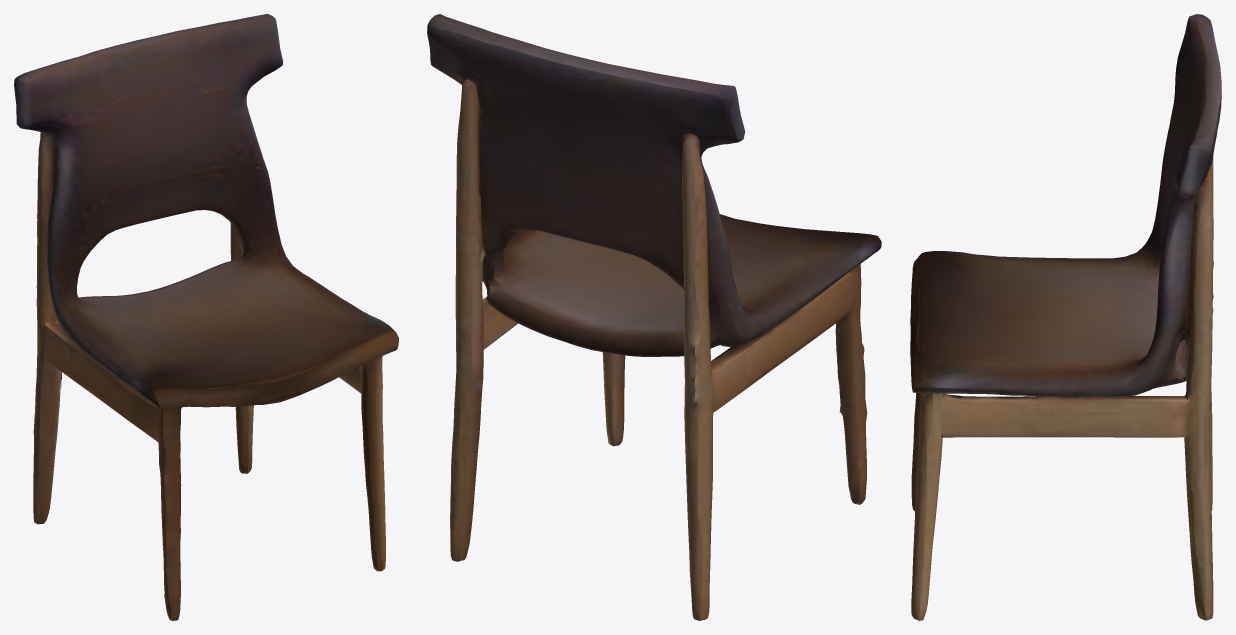
3 views of the same model, side by side, from view 1: azimuth 30°, elevation 25°; view 2: azimuth 150°, elevation 25°; view 3: azimuth 270°, elevation 25° (orthographic). The views are drawn at different scales.
Visible parts, largest first — view 1: world; view 2: world; view 3: world.
Part boxes in pixels (x1,y1,x2,y2): world: (14, 14, 398, 620); world: (427, 14, 881, 620); world: (910, 14, 1221, 620).
Size of the model in its own units: 0.7118 by 1.18 by 0.6803.
1 material, 1 textured.
